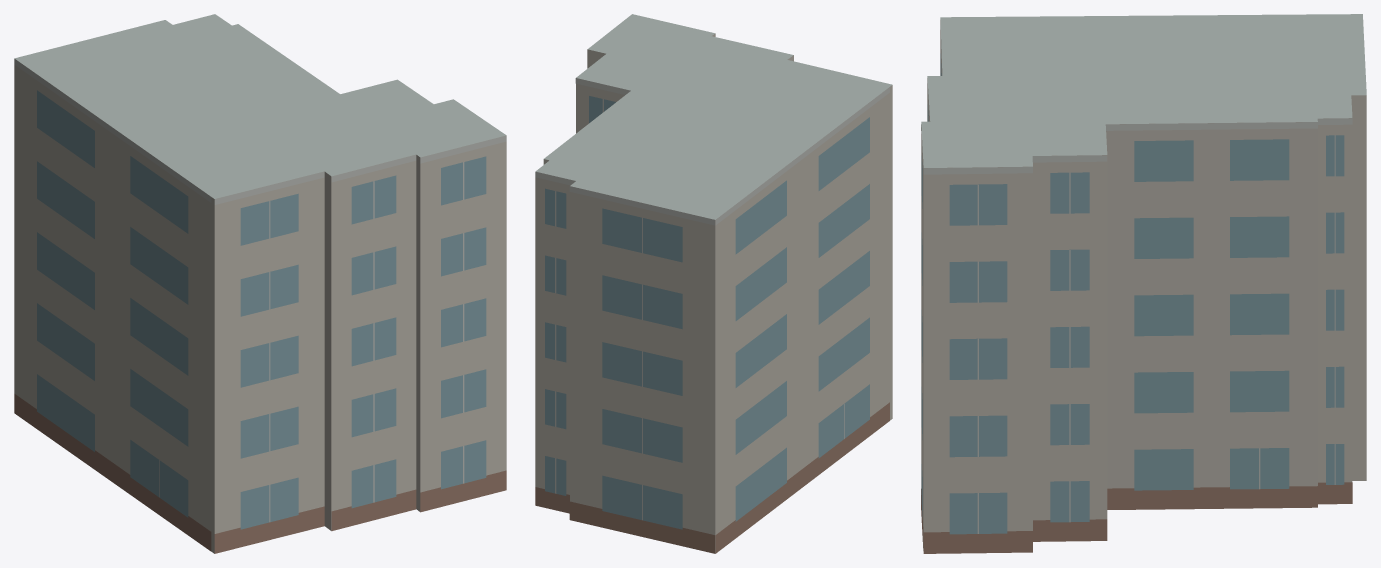
File: survey-upis-32572780.glb
3 renders of one model, left to right at view 1: azimuth 30°, elevation 25°; view 2: azimuth 150°, elevation 25°; view 3: azimuth 270°, elevation 25°, orthographic. The views are drawn at different scales.
Visible parts, largest first — view 1: survey-upis-32572780.tmp; view 2: survey-upis-32572780.tmp; view 3: survey-upis-32572780.tmp.
Boxes of the visible parts, left/top/right/bottom form: survey-upis-32572780.tmp: left=14, top=14, right=506, bottom=553; survey-upis-32572780.tmp: left=535, top=14, right=892, bottom=553; survey-upis-32572780.tmp: left=921, top=14, right=1366, bottom=553.
Size of the model in its own units: 12.17 by 14.2 by 14.88.
